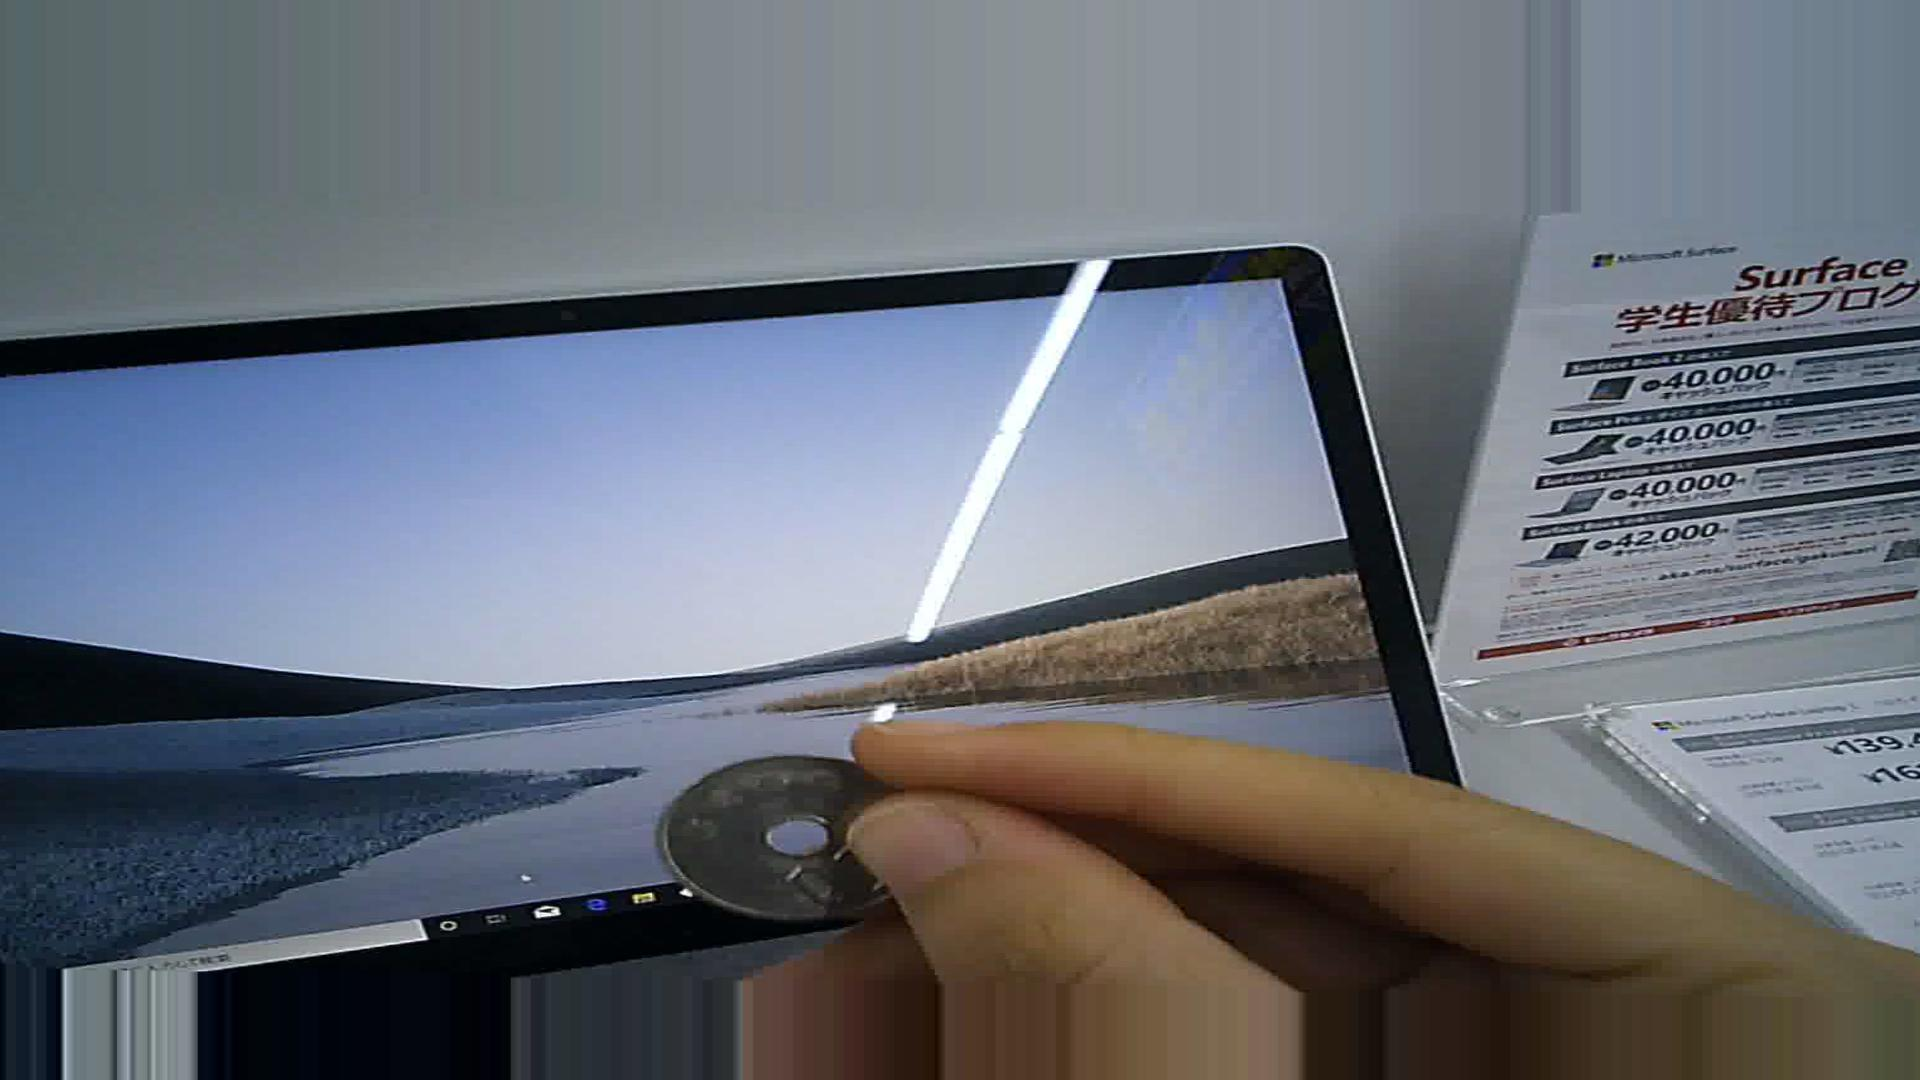50 Yen: (659, 753, 928, 923)
